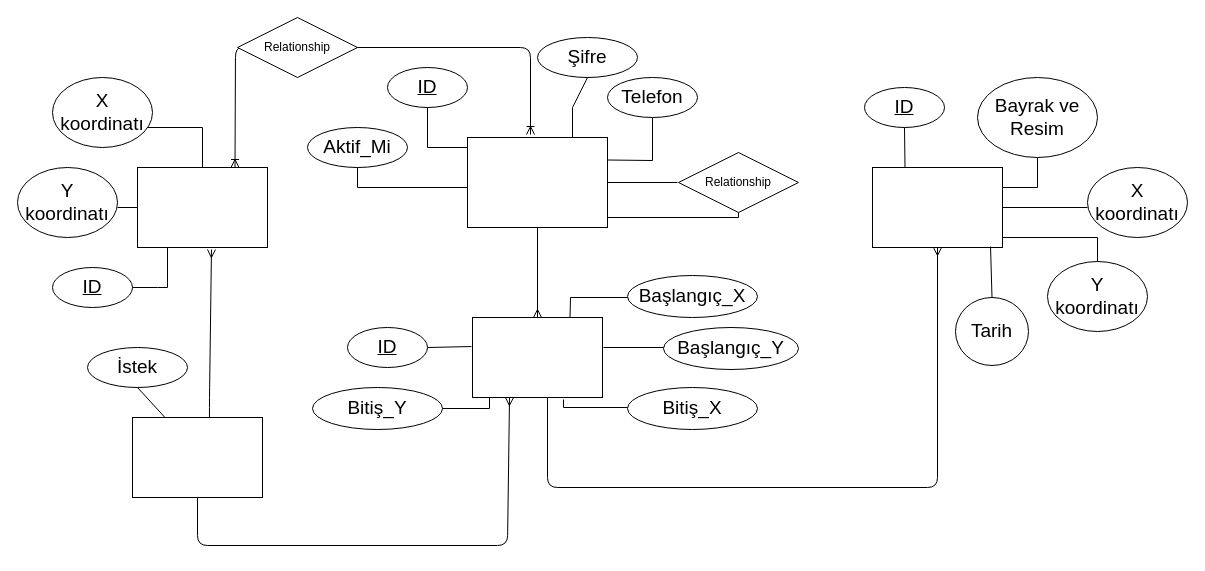
Image size: 1205x571. Some labels were removed from this diagram. The shapes that lost their labels are listed below. From the top down, each one's centre as x and y in pixels, then its label:
point 537,182: Kullanıcı
point 202,207: Koordinat
point 937,207: Resim Ve Bayrak
point 537,357: Güzergah
point 197,457: Sefer
